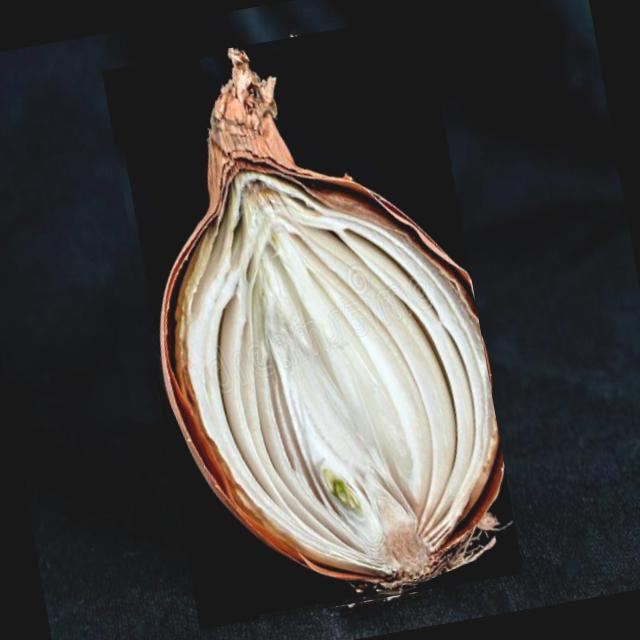rotten: (161, 49, 504, 591)
